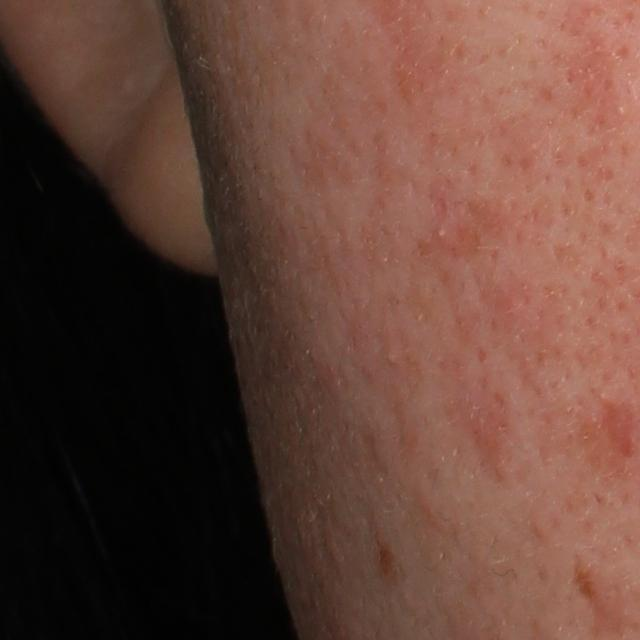atrophic_scar: (595, 395, 637, 466)
comedo: (432, 223, 449, 242)
